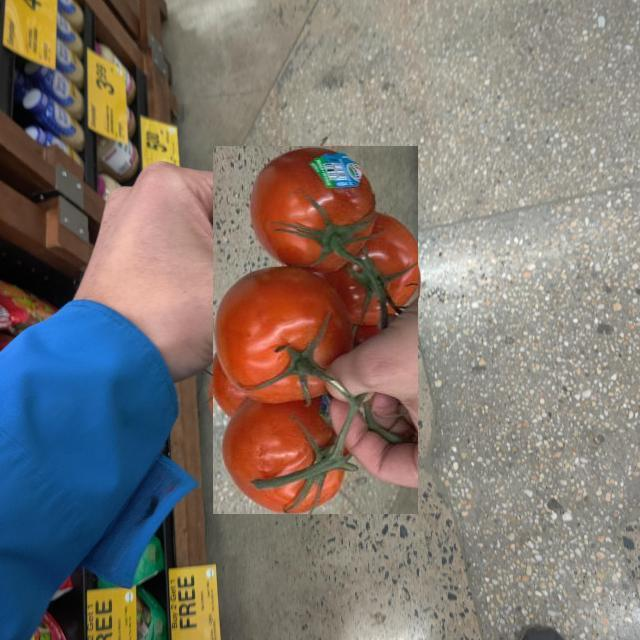Tomatoes: (212, 145, 418, 514)
